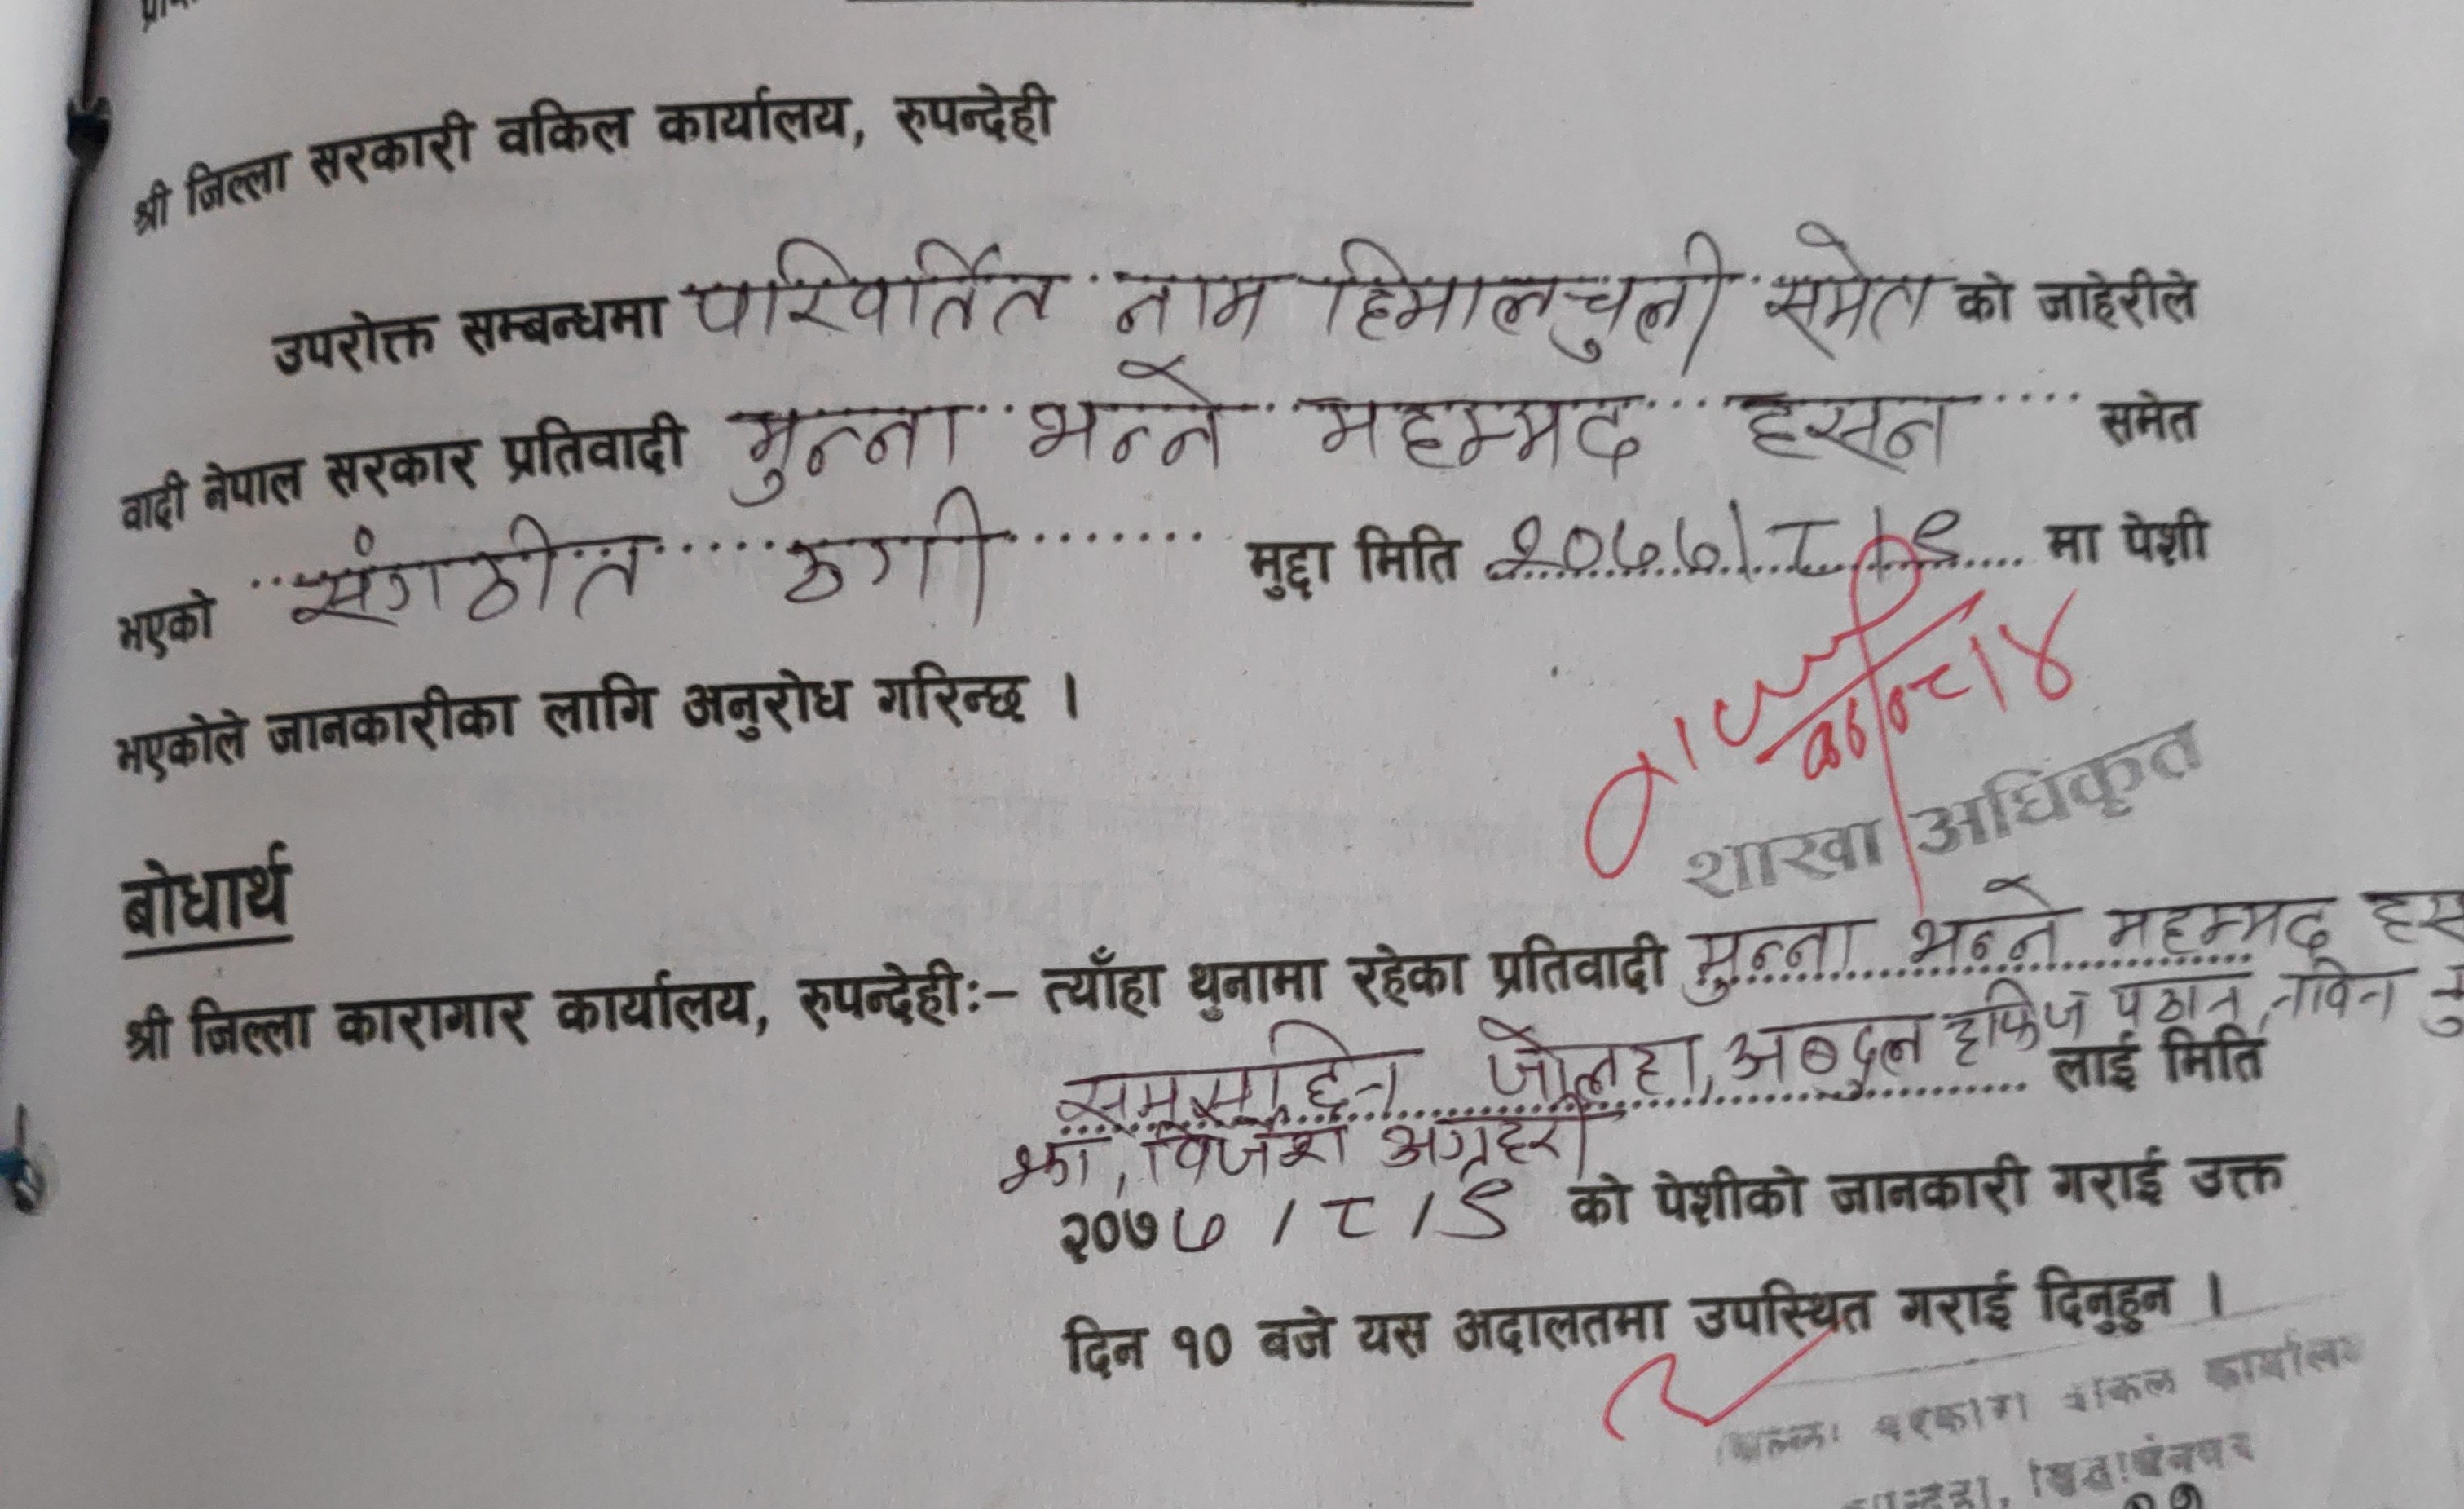text: (1306, 229, 1737, 363), (278, 504, 651, 630), (1478, 497, 1969, 592), (681, 234, 1063, 356), (1042, 1019, 1415, 1125), (1299, 386, 1653, 484), (778, 495, 1001, 630), (1023, 356, 1234, 479), (1758, 210, 1940, 350), (1459, 1004, 1707, 1102), (729, 401, 964, 500), (1728, 384, 1952, 482), (1720, 1007, 1934, 1102), (2100, 884, 2346, 963), (1683, 914, 1864, 1004), (1903, 870, 2066, 968), (1095, 259, 1278, 347), (1952, 977, 2096, 1065)
